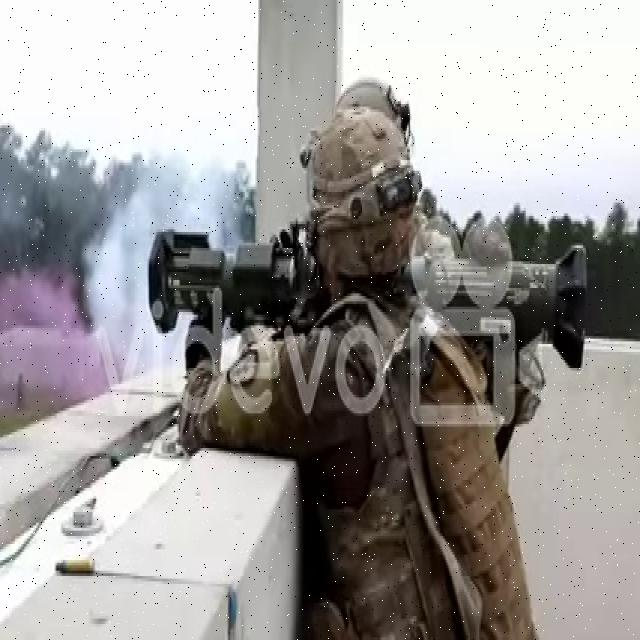bazooka: (144, 220, 591, 377)
